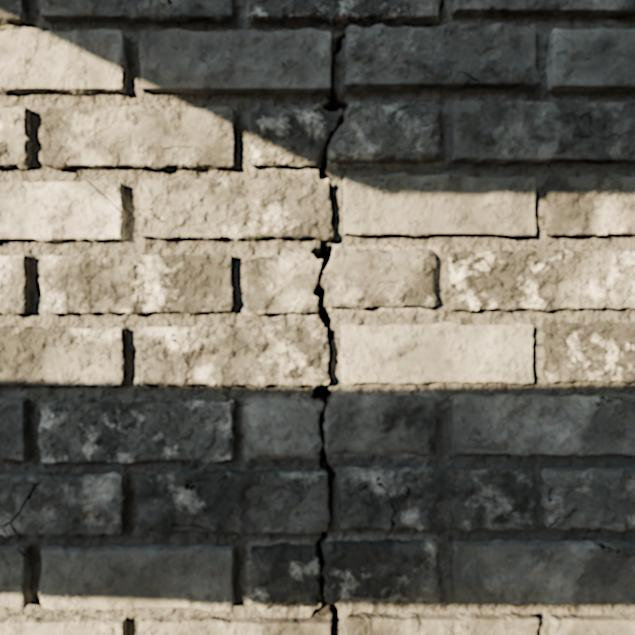broken_brick: (250, 102, 441, 168), (322, 539, 440, 603), (321, 248, 437, 309), (324, 395, 436, 455), (250, 542, 319, 611), (247, 399, 323, 459), (246, 253, 320, 314)
crack: (134, 114, 343, 634), (139, 0, 540, 112), (39, 545, 236, 612), (338, 465, 535, 530), (41, 105, 236, 170), (452, 538, 634, 606), (38, 400, 234, 463), (343, 173, 536, 236), (339, 322, 533, 384), (39, 253, 235, 314), (450, 100, 634, 164), (448, 249, 634, 311), (451, 393, 634, 456), (0, 28, 128, 95), (0, 471, 126, 537), (0, 179, 125, 241), (0, 326, 127, 387), (540, 467, 634, 532), (542, 320, 634, 382), (544, 173, 634, 236), (546, 28, 634, 92), (40, 0, 233, 25), (346, 612, 539, 634), (451, 0, 634, 18), (0, 614, 126, 634), (0, 106, 32, 169), (0, 544, 31, 609), (0, 397, 31, 461), (0, 255, 31, 315), (548, 613, 634, 634), (0, 0, 27, 25), (375, 280, 400, 285)
